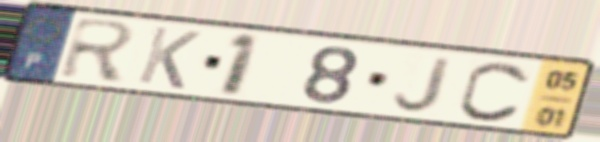1: (222, 31, 262, 101)
8: (301, 44, 361, 105)
C: (455, 59, 534, 125)
J: (391, 54, 458, 114)
K: (133, 24, 205, 92)
R: (55, 15, 141, 85)
